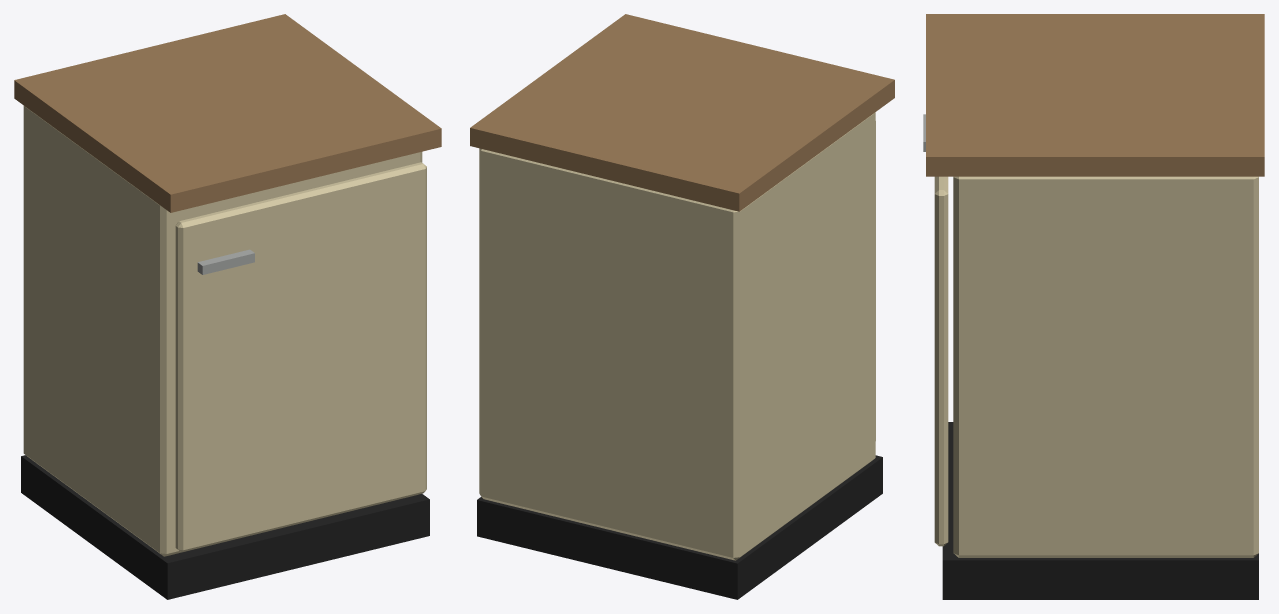
Rendered from kitchen_cabinet.glb.
3 views of the same model, side by side, from view 1: azimuth 30°, elevation 25°; view 2: azimuth 150°, elevation 25°; view 3: azimuth 270°, elevation 25° (orthographic). The views are drawn at different scales.
Parts seen in each view (by area): view 1: KitchenCabinet, anim_door_L; view 2: KitchenCabinet; view 3: KitchenCabinet, anim_door_L.
Boxes of the visible parts, x1,y1,x2,y2 form: KitchenCabinet: (14,14,441,599); anim_door_L: (175,162,426,552); KitchenCabinet: (470,14,894,599); KitchenCabinet: (926,14,1264,599); anim_door_L: (923,114,948,546).
Size of the model in its own units: 0.62 by 0.9 by 0.625.
